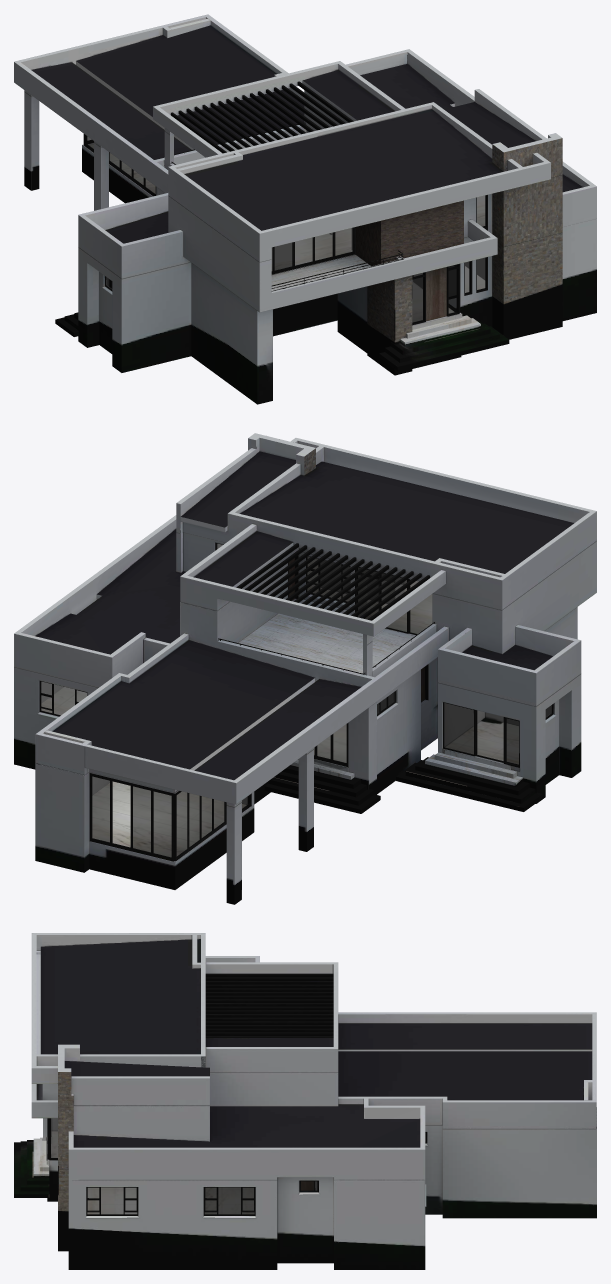
File: house opt-2.glb
The picture shows the model from 3 angles, top to bottom: view 1: azimuth 30°, elevation 25°; view 2: azimuth 150°, elevation 25°; view 3: azimuth 270°, elevation 25°; orthographic projection. The views are drawn at different scales.
Visible parts, largest first — view 1: main Roofing _Sheets.007, main Plaster_1.010, main Roofing _Sheets.006, main Plaster_2.009, main Plaster_1.009, main Plaster_1.011, main Plaster_3.007, main Plaster_Int.013, main Frame.011, main Plaster_Int.014, main Plaster_4.005, main Ceramic.008 (+11 smaller); view 2: main Plaster_1.010, main Roofing _Sheets.006, main Roofing _Sheets.007, main Plaster_1.009, main Plaster_1.011, main Plaster_2.009, main Glass.009, main Ceramic int.008, main Ceramic.008, main Plaster_Int.014, main Frame.011, main Plaster_Int.013 (+8 smaller); view 3: main Plaster_1.009, main Plaster_1.010, main Roofing _Sheets.006, main Roofing _Sheets.007, main Plaster_1.011, main Frame.011, main Plaster_Int.013, main Plaster_Int.014, main Glass.009, main Ceramic int.008, main Ceramic.008, main Frame.009 (+6 smaller).
Boxes of the visible parts, box(x1,y1,x2,y2) form: main Roofing _Sheets.007: box(184, 70, 535, 230); main Plaster_1.010: box(14, 14, 596, 312); main Roofing _Sheets.006: box(31, 25, 582, 243); main Plaster_2.009: box(24, 92, 492, 404); main Plaster_1.009: box(78, 143, 596, 372); main Plaster_1.011: box(153, 61, 561, 262); main Plaster_3.007: box(367, 232, 562, 375); main Plaster_Int.013: box(21, 17, 589, 259); main Frame.011: box(171, 81, 353, 153); main Plaster_Int.014: box(160, 64, 550, 174); main Plaster_4.005: box(355, 200, 463, 266); main Ceramic.008: box(55, 312, 509, 370); main Plaster_1.010: box(14, 515, 596, 804); main Roofing _Sheets.006: box(35, 529, 552, 780); main Roofing _Sheets.007: box(181, 451, 574, 586); main Plaster_1.009: box(14, 657, 581, 872); main Plaster_1.011: box(176, 433, 596, 644); main Plaster_2.009: box(37, 607, 577, 904); main Glass.009: box(41, 682, 552, 857); main Ceramic int.008: box(41, 687, 519, 857); main Ceramic.008: box(264, 750, 542, 813); main Plaster_Int.014: box(180, 438, 589, 577); main Frame.011: box(236, 543, 429, 620); main Plaster_Int.013: box(21, 519, 573, 743); main Plaster_1.009: box(43, 1107, 596, 1269); main Plaster_1.010: box(31, 956, 596, 1180); main Roofing _Sheets.006: box(73, 1023, 592, 1147); main Roofing _Sheets.007: box(41, 939, 333, 1076); main Plaster_1.011: box(31, 933, 338, 1105); main Frame.011: box(205, 973, 333, 1037); main Plaster_Int.013: box(205, 958, 592, 1118); main Plaster_Int.014: box(36, 935, 333, 1065); main Glass.009: box(51, 1118, 425, 1214); main Ceramic int.008: box(51, 1131, 254, 1214); main Ceramic.008: box(14, 1137, 49, 1197); main Frame.009: box(47, 1118, 427, 1215).
Size of the model in its own units: 21.42 by 9.1 by 26.82.
Materials: 5 (4 with a texture image).
